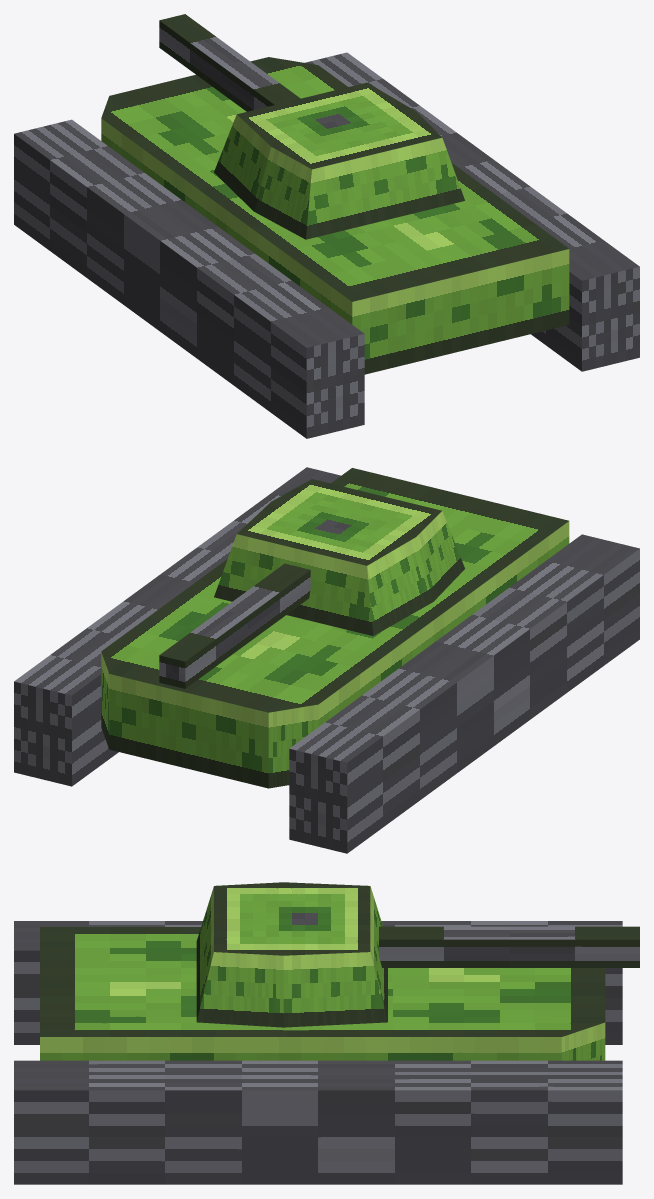
File: car_tank.glb
3 views of the same model, one above another, from view 1: azimuth 30°, elevation 25°; view 2: azimuth 150°, elevation 25°; view 3: azimuth 270°, elevation 25° (orthographic). The views are drawn at different scales.
Visible parts, largest first — view 1: Hull, TrackL, Turret, TrackR, Barrel; view 2: Hull, TrackL, Turret, TrackR, Barrel; view 3: TrackR, Hull, Turret, Barrel, TrackL.
Part boxes in pixels (x1=…): Hull: x1=101, y1=57, x2=569, y2=374; TrackL: x1=14, y1=119, x2=364, y2=438; Turret: x1=214, y1=82, x2=464, y2=239; TrackR: x1=304, y1=52, x2=639, y2=371; Barrel: x1=159, y1=14, x2=300, y2=111; Hull: x1=101, y1=468, x2=569, y2=788; TrackL: x1=289, y1=534, x2=639, y2=853; Turret: x1=214, y1=479, x2=464, y2=635; TrackR: x1=14, y1=467, x2=340, y2=786; Barrel: x1=159, y1=563, x2=310, y2=688; TrackR: x1=14, y1=1060, x2=622, y2=1184; Hull: x1=40, y1=927, x2=605, y2=1060; Turret: x1=196, y1=882, x2=387, y2=1027; Barrel: x1=379, y1=926, x2=639, y2=967; TrackL: x1=14, y1=921, x2=622, y2=1044.
Size of the model in its own units: 2.3 by 1.15 by 3.6.
Materials: 1 (1 with a texture image).
